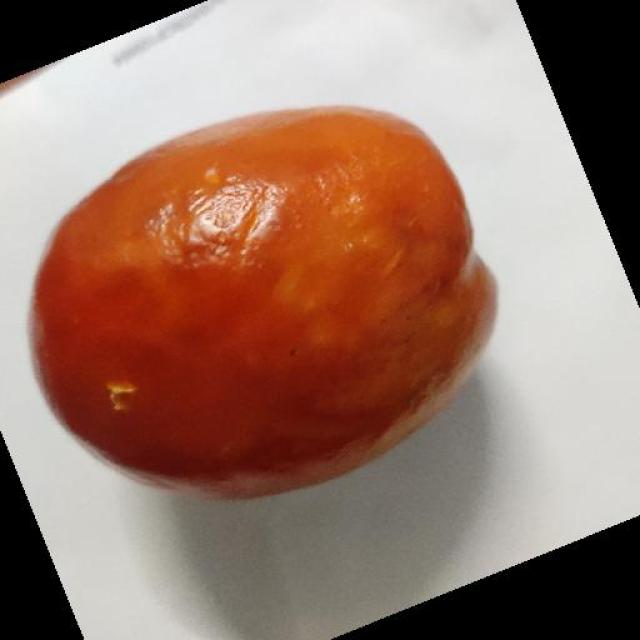Stale_tomato: (46, 116, 463, 476)
